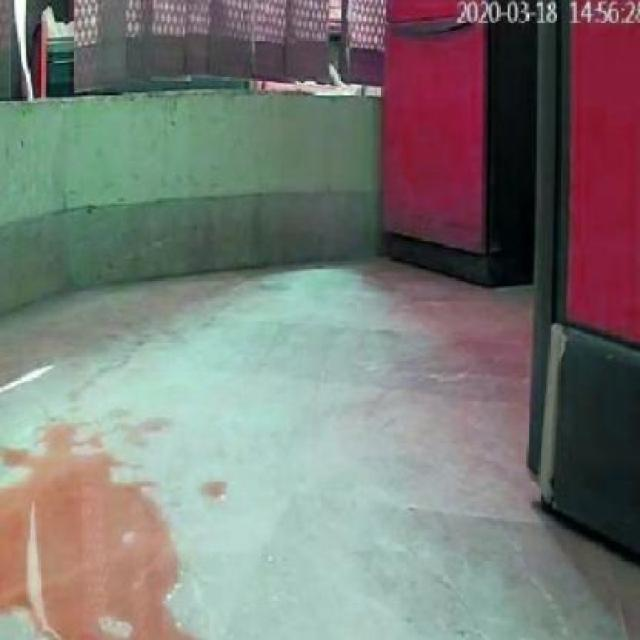spillage: (0, 421, 196, 640)
